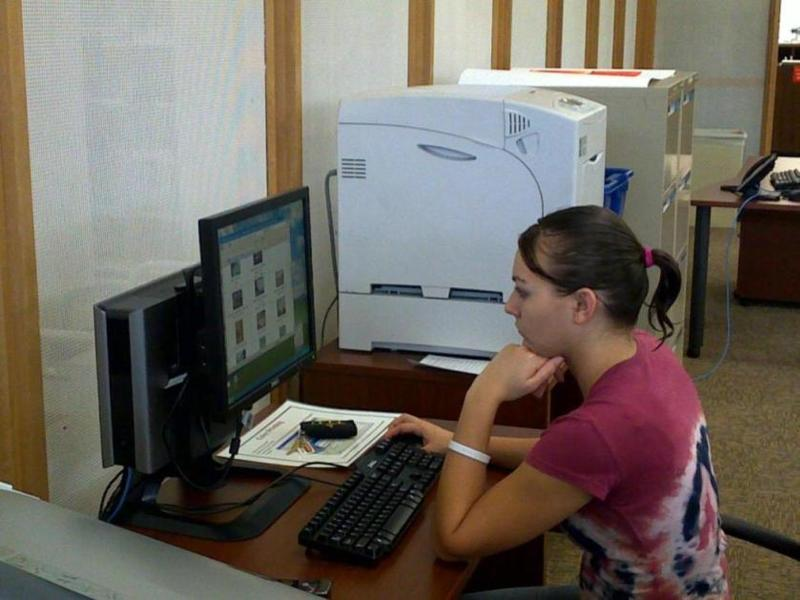person: (383, 207, 734, 600)
